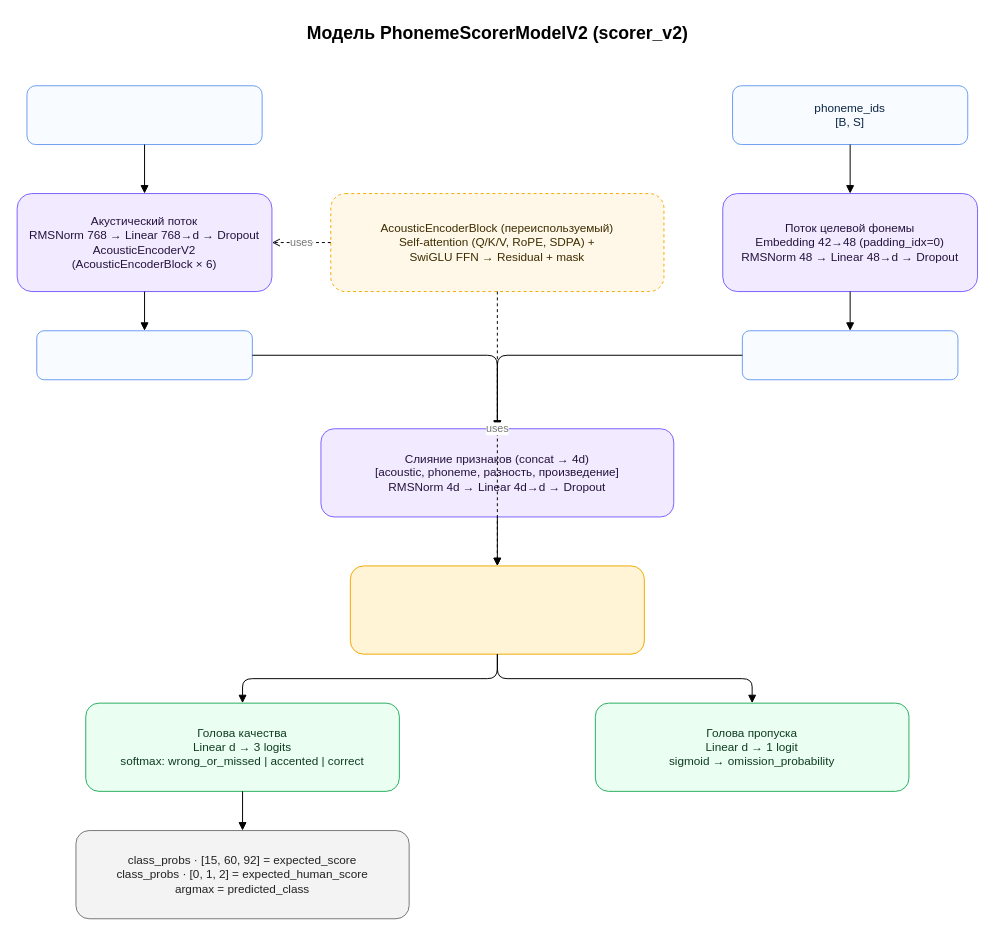
The diagram is 995 pixels wide and 936 high, and some of its shapes have lost their labels. The box of each missing label's shape, as (x1, y1, x2, y2) in pixels:
acoustic_embeddings [B, S, 768]: (26, 85, 262, 145)
acoustic_state [B, S, d]: (36, 330, 252, 380)
phoneme_state [B, S, d]: (741, 330, 958, 380)
Контекстный скорер AcousticEncoderBlock × 2 → Output RMSNorm (masked): (349, 565, 644, 654)
